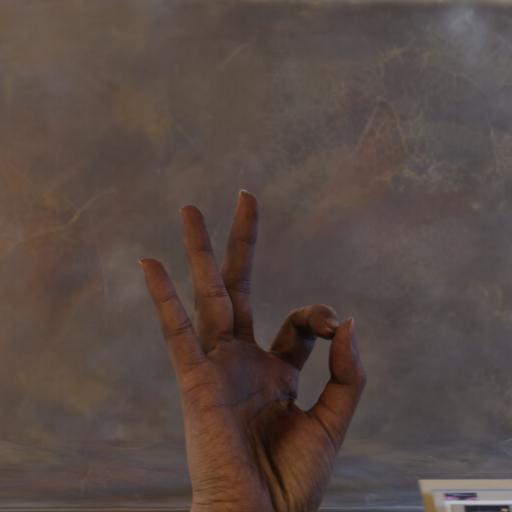F: (99, 155, 398, 512)
